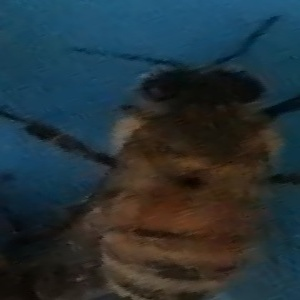bee: (15, 46, 293, 297)
